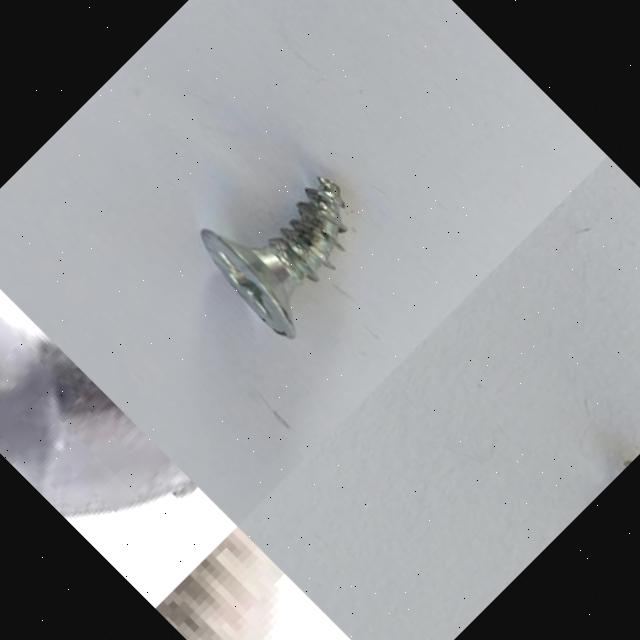Screw: (0, 307, 198, 516), (200, 175, 347, 337), (155, 525, 286, 640)
